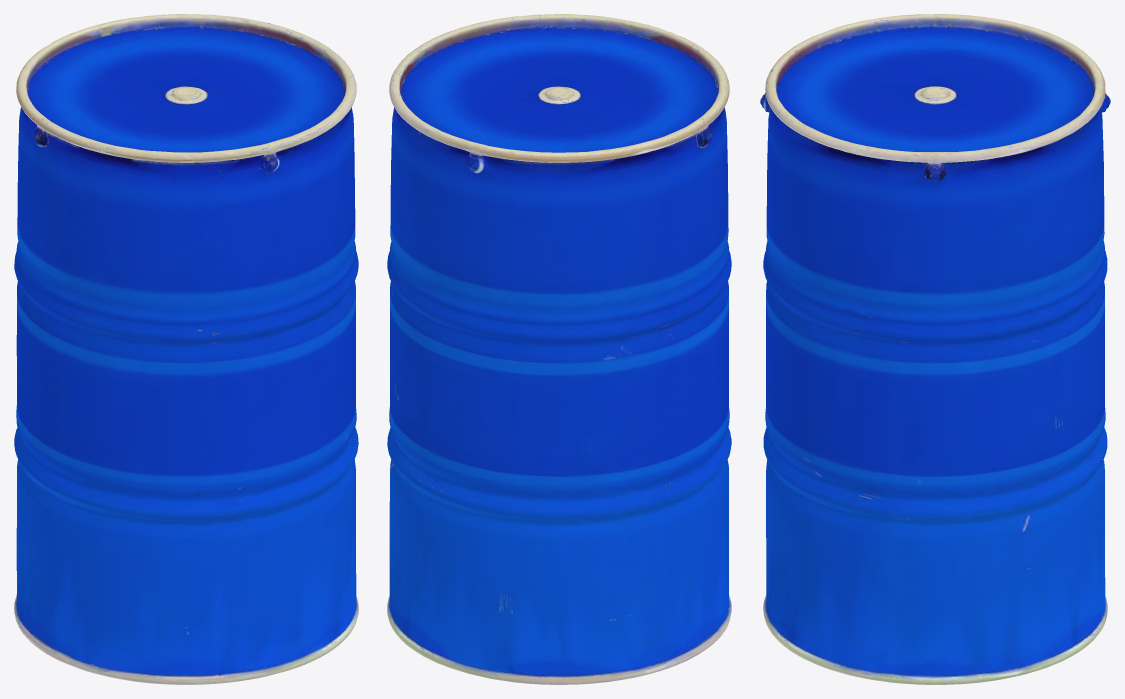
The model's file is blue_drum.glb.
3 views of the same model, side by side, from view 1: azimuth 30°, elevation 25°; view 2: azimuth 150°, elevation 25°; view 3: azimuth 270°, elevation 25° (orthographic).
Visible parts, largest first — view 1: Mesh1.0; view 2: Mesh1.0; view 3: Mesh1.0.
Boxes of the visible parts, x1,y1,x2,y2 form: Mesh1.0: [14, 14, 358, 684]; Mesh1.0: [387, 14, 731, 684]; Mesh1.0: [760, 14, 1110, 684].
Bounding box in the file's own units: 1.14 × 1.9 × 1.14.
Materials: 1 (1 with a texture image).
